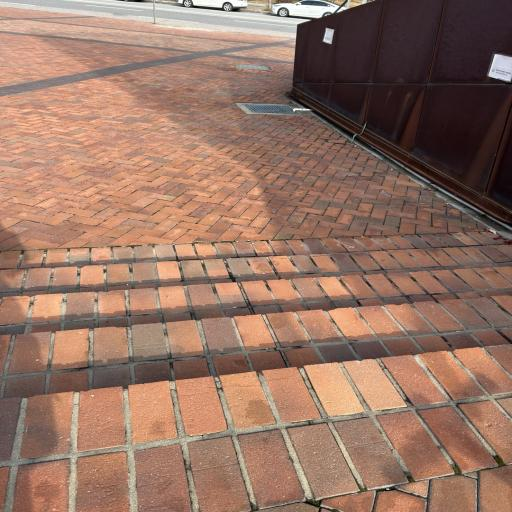drain: (236, 103, 299, 115)
